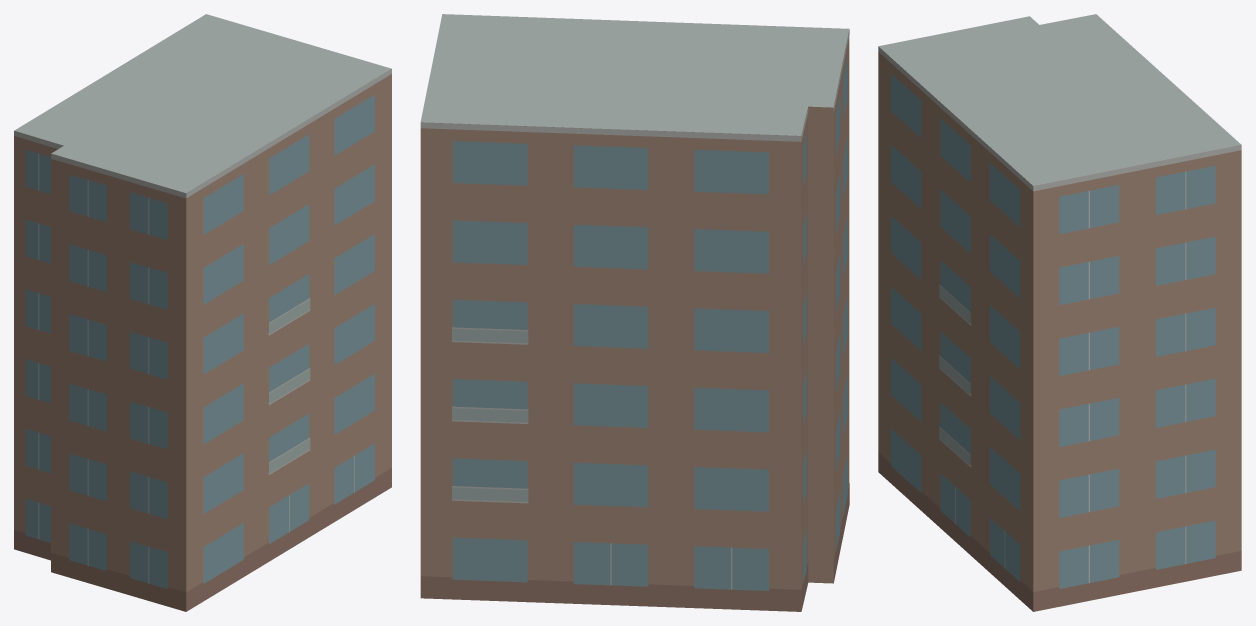
Rendered from survey-upis-32633218.glb.
3 views of the same model, side by side, from view 1: azimuth 30°, elevation 25°; view 2: azimuth 150°, elevation 25°; view 3: azimuth 270°, elevation 25° (orthographic). The views are drawn at different scales.
Visible parts, largest first — view 1: survey-upis-32633218.tmp; view 2: survey-upis-32633218.tmp; view 3: survey-upis-32633218.tmp.
Part boxes in pixels (x1=…): survey-upis-32633218.tmp: x1=14, y1=14, x2=391, y2=611; survey-upis-32633218.tmp: x1=420, y1=14, x2=849, y2=611; survey-upis-32633218.tmp: x1=878, y1=14, x2=1241, y2=611.
Bounding box in the file's own units: 17 × 19.6 × 15.17.
